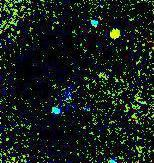star: (101, 21, 131, 51)
